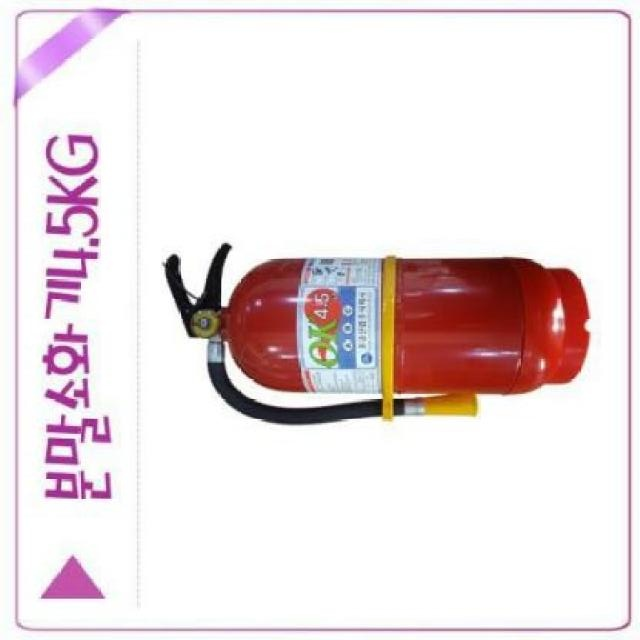fire extinguisher: (165, 242, 591, 426)
